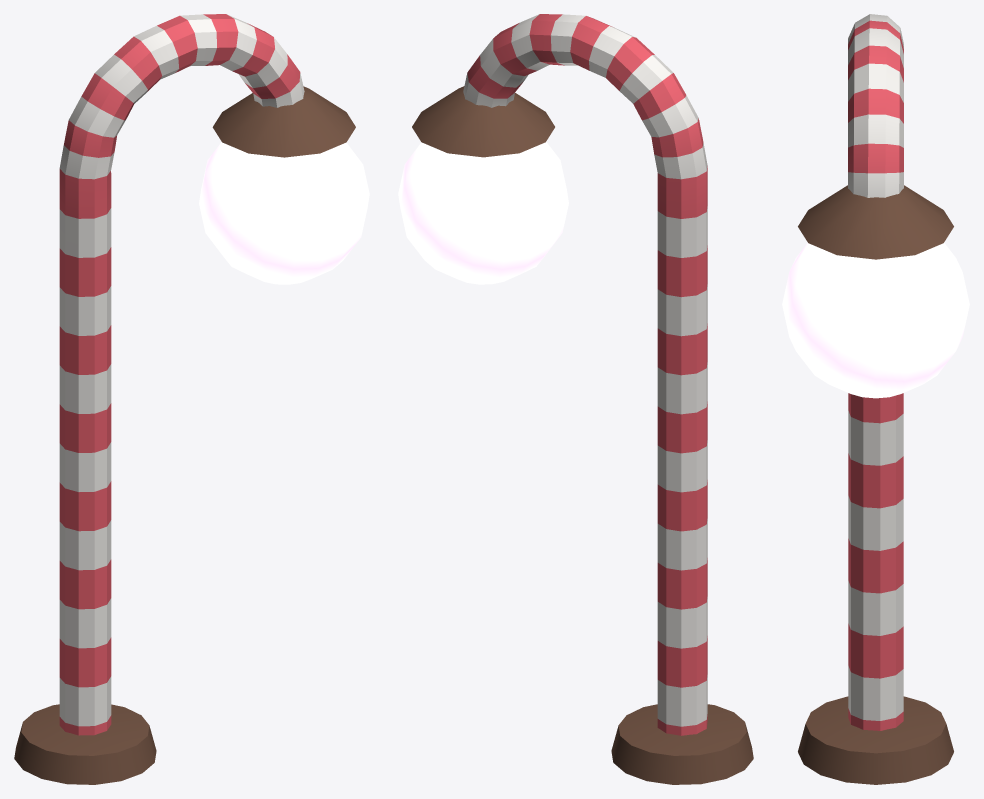
File: CandyStreetLamp.fbx
The picture shows the model from 3 angles, left to right: view 1: azimuth 30°, elevation 25°; view 2: azimuth 150°, elevation 25°; view 3: azimuth 270°, elevation 25°; orthographic projection. The views are drawn at different scales.
Visible parts, largest first — view 1: CandyStreetLamp; view 2: CandyStreetLamp; view 3: CandyStreetLamp.
Boxes of the visible parts, left/top/right/bottom form: CandyStreetLamp: left=14, top=14, right=369, bottom=784; CandyStreetLamp: left=398, top=14, right=753, bottom=784; CandyStreetLamp: left=782, top=14, right=969, bottom=784.
Size of the model in its own units: 2.7 by 5.48 by 1.2.
